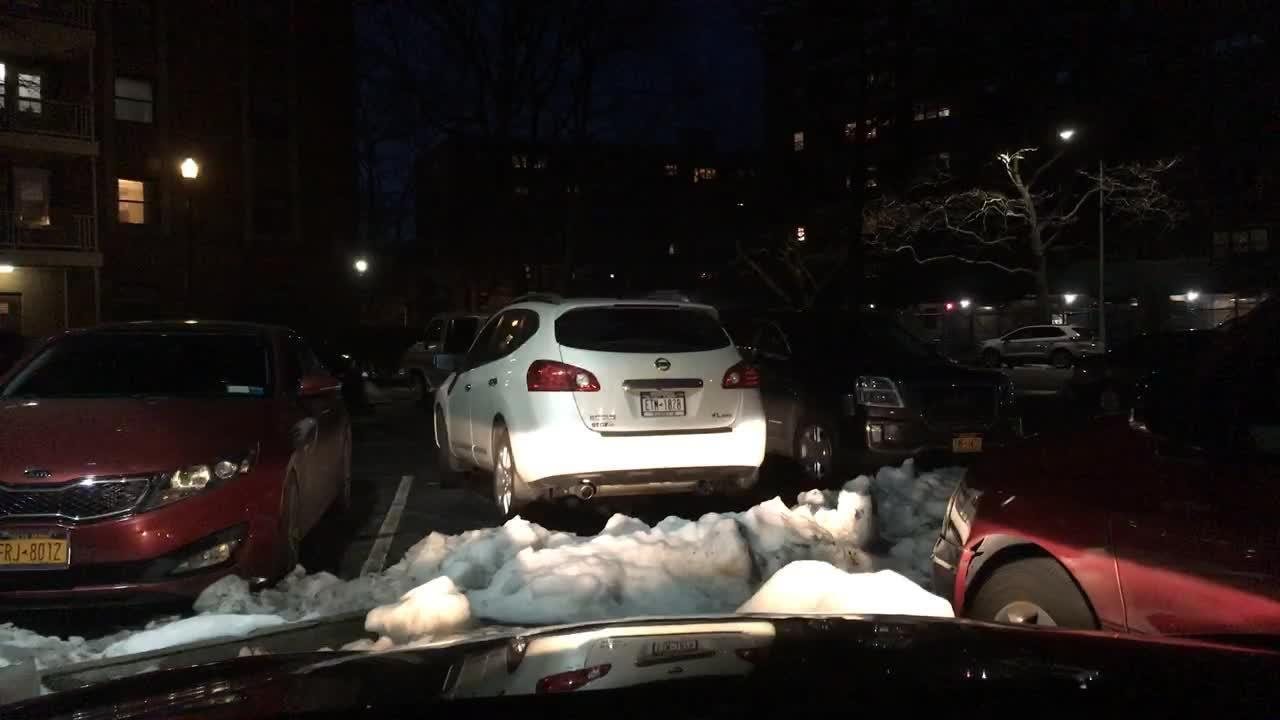Nissan: (649, 354, 675, 372)
kia: (19, 465, 58, 482)
